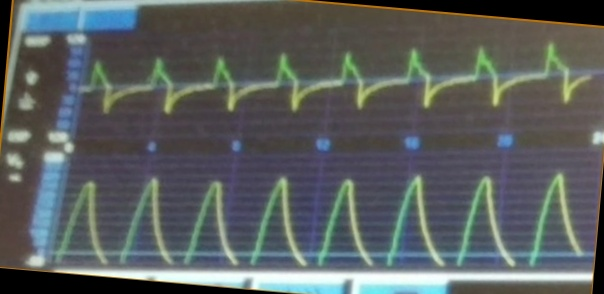Accumulation Flow: (90, 33, 590, 135)
Volume: (69, 157, 584, 270)
